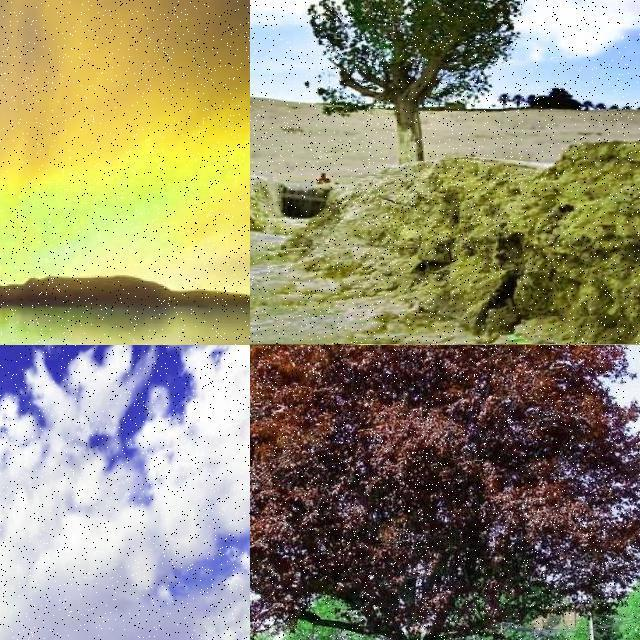tree: (250, 344, 640, 640), (405, 0, 523, 136), (304, 0, 404, 130)
